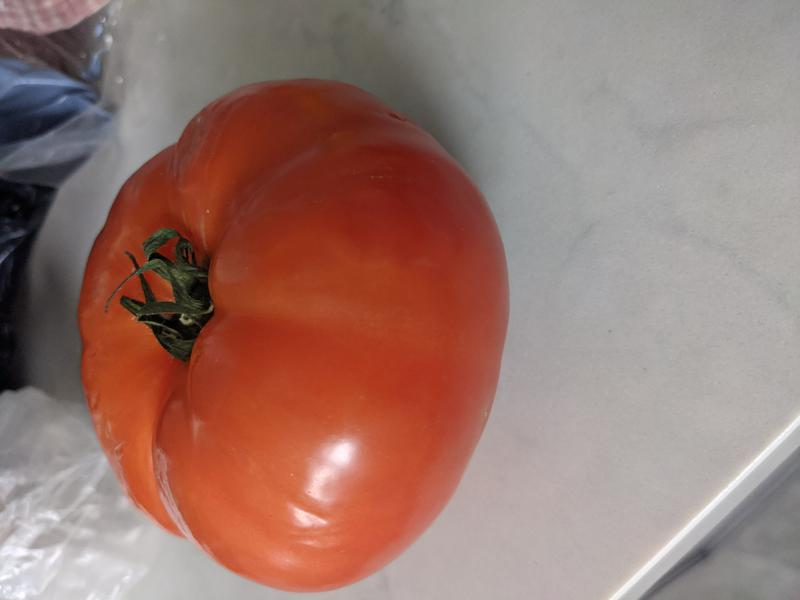tomato: (77, 78, 511, 593)
